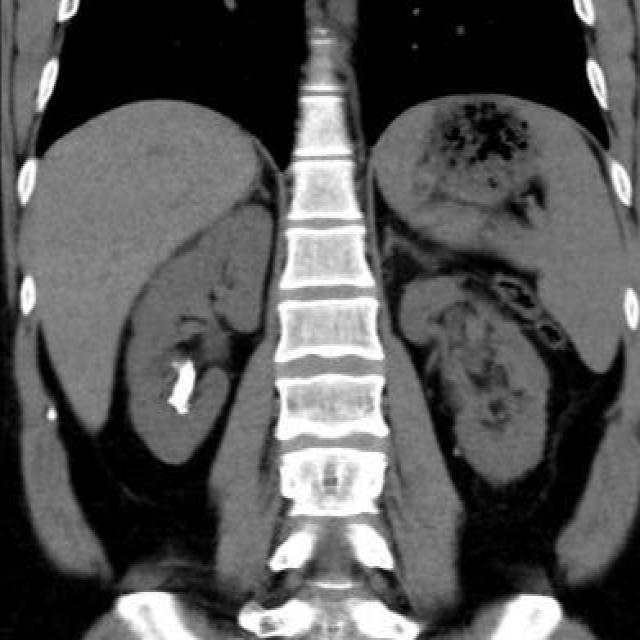Tas_Var: (167, 357, 196, 413), (174, 404, 188, 414), (168, 359, 178, 367)
